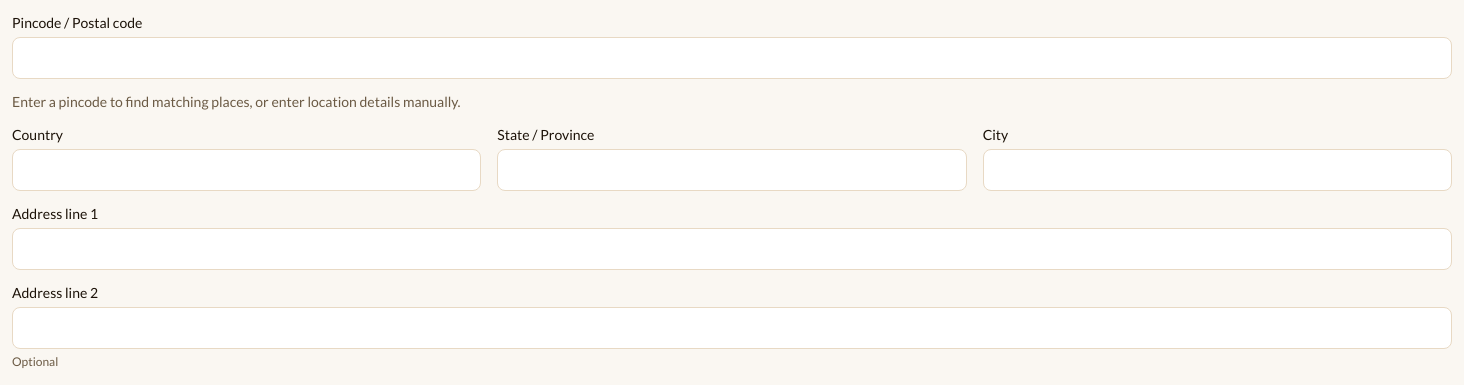
Test: MemberAddressFields › ignores a stale pincode response after a newer lookup has completed
This screenshot has width=1464, height=385.
Type "11111" into the field labelled "Pincode / Postal code" at (732, 58), box [13, 38, 1451, 78]
Wait 550 ms
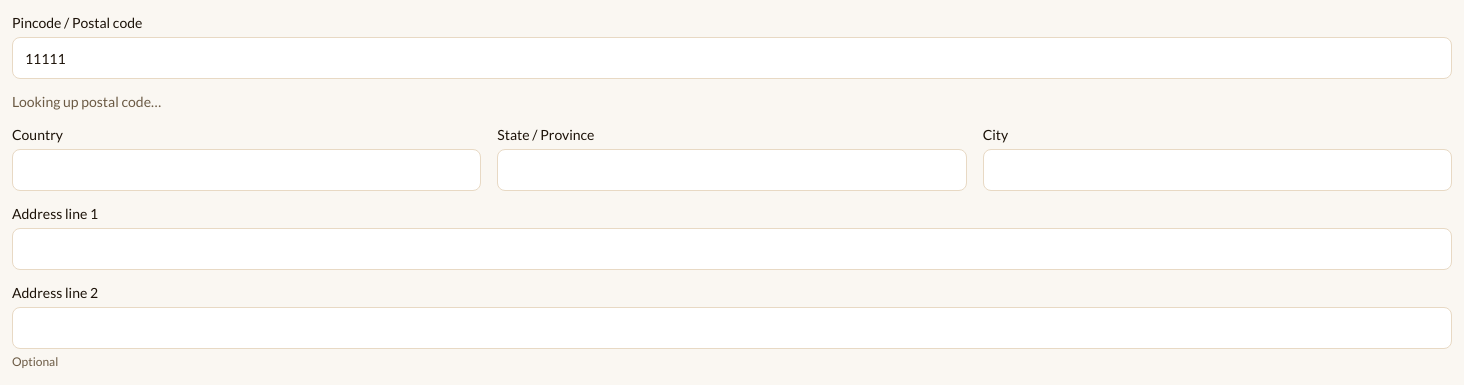
Replace the text in the field labelled "Pincode / Postal code" with "22222" at (732, 58), box [13, 38, 1451, 78]
Wait 550 ms
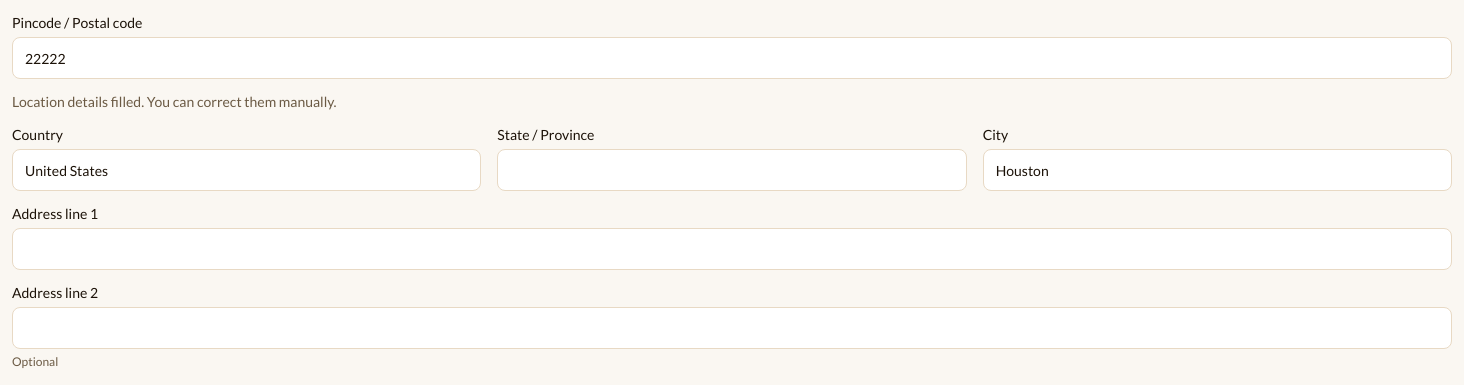
Expected: the field labelled "City" holds "Houston", [984, 150, 1451, 190]
